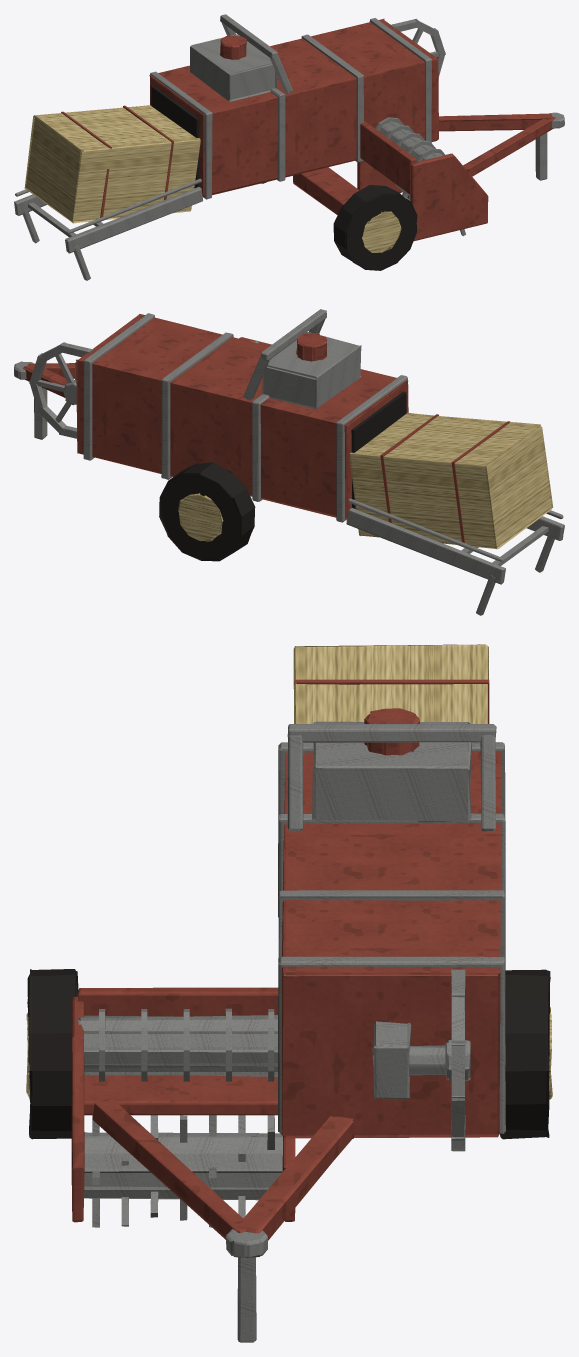
File: hay_baler.glb
The picture shows the model from 3 angles, top to bottom: view 1: azimuth 30°, elevation 25°; view 2: azimuth 150°, elevation 25°; view 3: azimuth 270°, elevation 25°; orthographic projection. The views are drawn at different scales.
Visible parts, largest first — view 1: HayBaler, Flywheel; view 2: HayBaler, Flywheel; view 3: HayBaler, Reel, Flywheel.
Part boxes in pixels (x1=…): HayBaler: x1=14, y1=14, x2=564, y2=280; Flywheel: x1=390, y1=18, x2=445, y2=78; HayBaler: x1=14, y1=309, x2=564, y2=615; Flywheel: x1=29, y1=342, x2=93, y2=438; HayBaler: x1=26, y1=644, x2=552, y2=1342; Reel: x1=84, y1=1115, x2=282, y2=1227; Flywheel: x1=445, y1=969, x2=470, y2=1151.
Size of the model in its own units: 5.22 by 1.87 by 2.44.
Materials: 4 (3 with a texture image).
